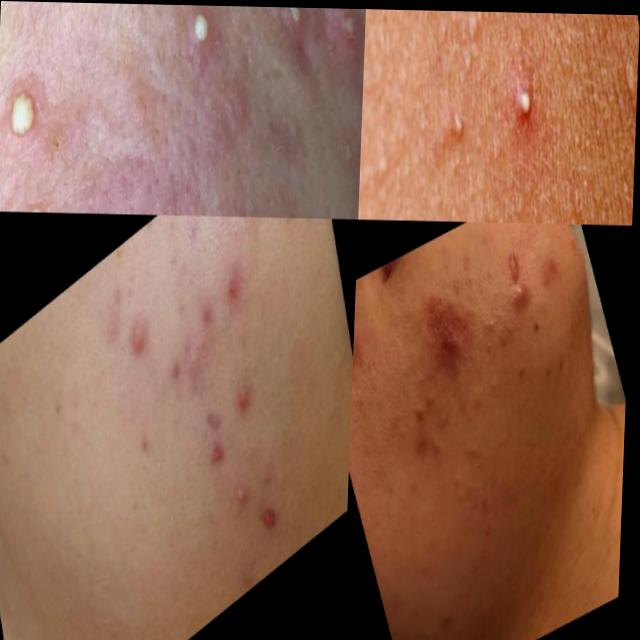8: (424, 305, 475, 377), (197, 392, 236, 479), (124, 303, 156, 376), (354, 303, 378, 386), (261, 491, 290, 553), (219, 253, 247, 315), (231, 363, 258, 424), (502, 273, 538, 316), (194, 287, 221, 340)
9: (0, 52, 57, 179), (437, 84, 485, 165), (506, 61, 545, 138), (13, 171, 64, 212), (234, 467, 258, 516)
blackheads: (314, 6, 364, 92), (336, 94, 362, 217), (498, 240, 531, 288), (272, 5, 308, 46)
dark spot: (460, 419, 494, 467), (448, 456, 471, 494), (480, 334, 503, 368), (484, 304, 503, 337)
whiteheads: (178, 3, 221, 60)
